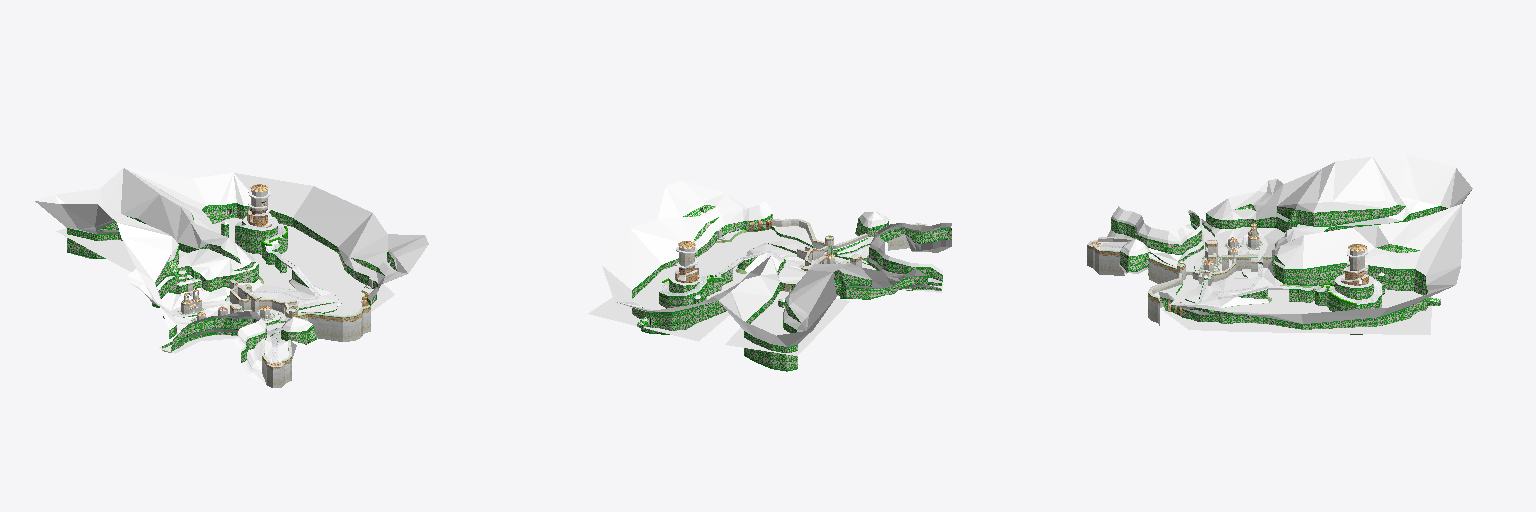
3 views of the same model, side by side, from view 1: azimuth 30°, elevation 25°; view 2: azimuth 150°, elevation 25°; view 3: azimuth 270°, elevation 25° (orthographic).
Visible parts, largest first — view 1: Mesh.002_LevelModel_41.002; view 2: Mesh.002_LevelModel_41.002; view 3: Mesh.002_LevelModel_41.002.
Boxes of the visible parts, box(x1,y1,x2,y2) form: Mesh.002_LevelModel_41.002: box(35, 167, 428, 387); Mesh.002_LevelModel_41.002: box(588, 180, 951, 371); Mesh.002_LevelModel_41.002: box(1087, 154, 1472, 334).
Bounding box in the file's own units: 39.11 × 12.4 × 48.11.
16 materials, 11 textured.